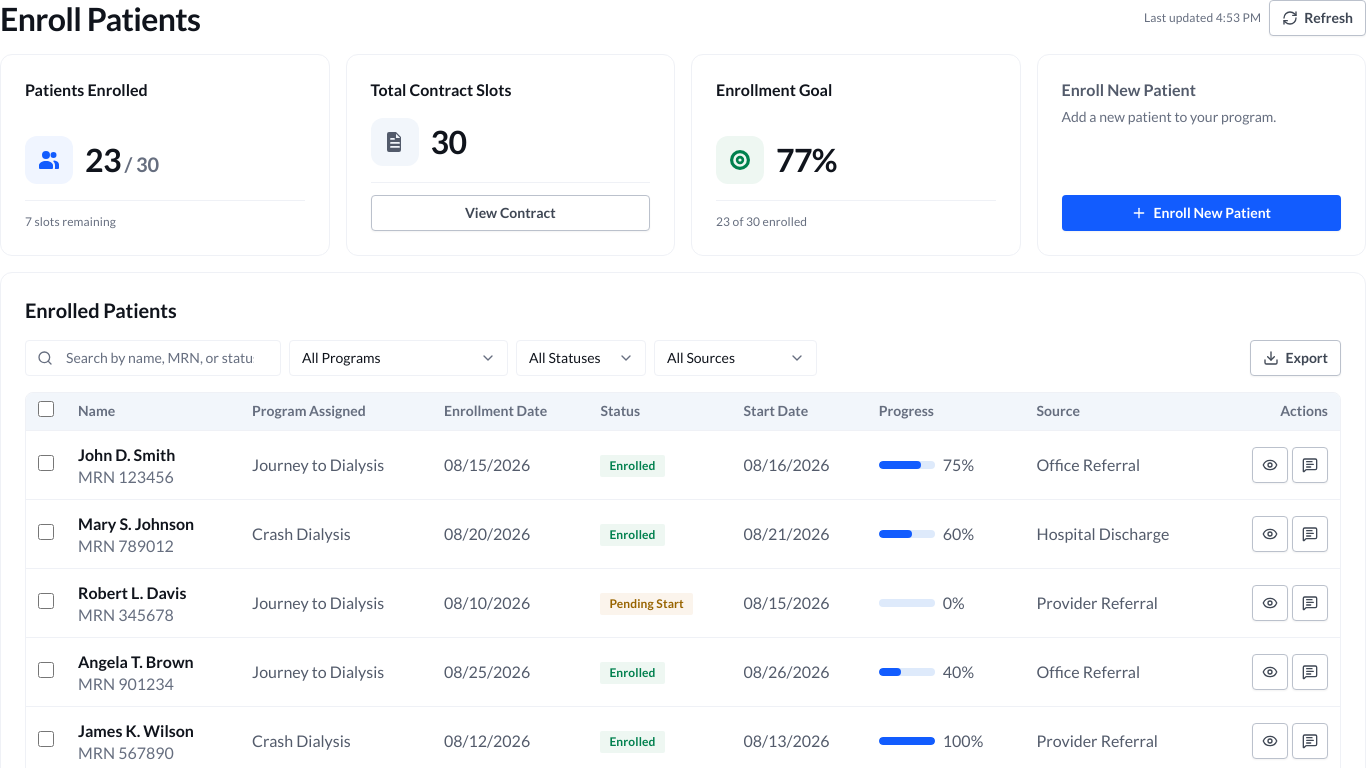
Scenario: enrolling a patient › explains what is missing before saving anything
Click the button "Enroll New Patient" at (1201, 213), box [1062, 195, 1341, 231]
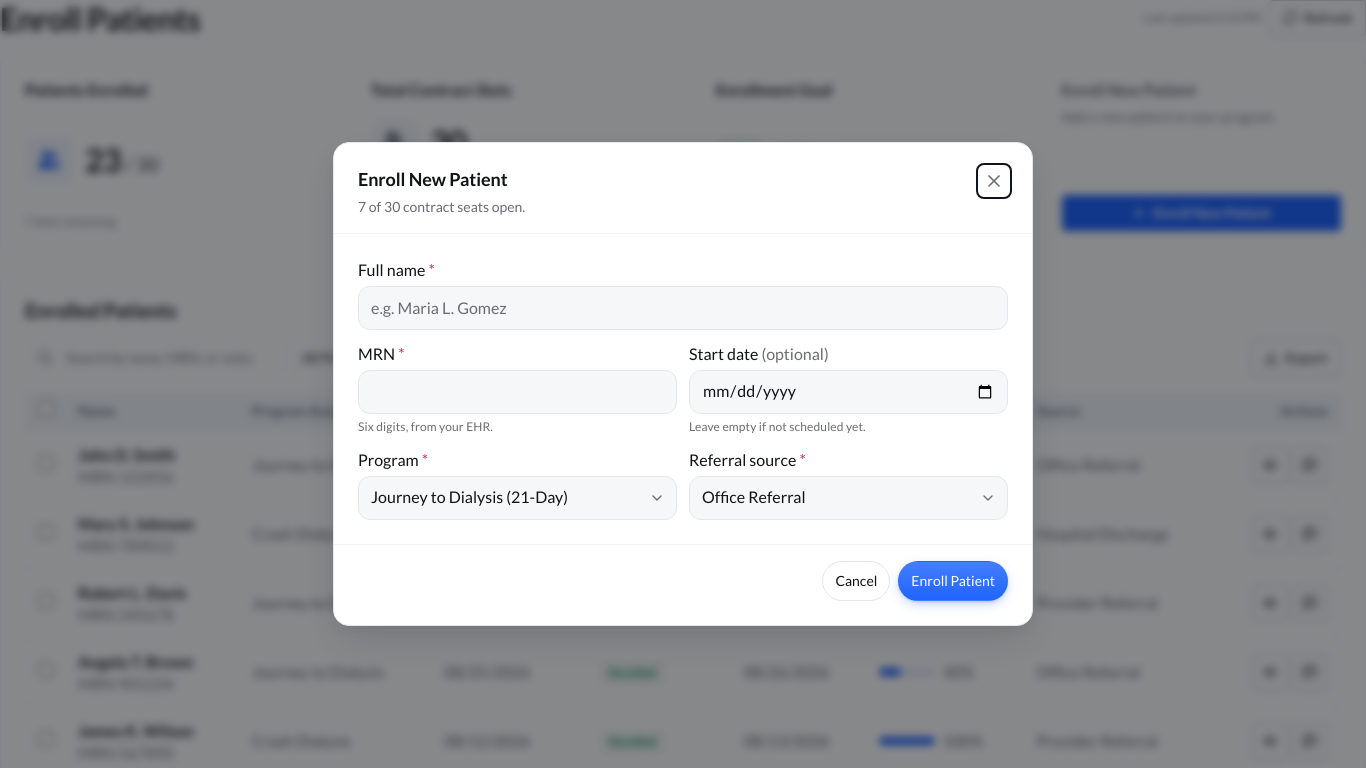
Click the button "Enroll Patient" at (953, 581), box [898, 561, 1008, 601]
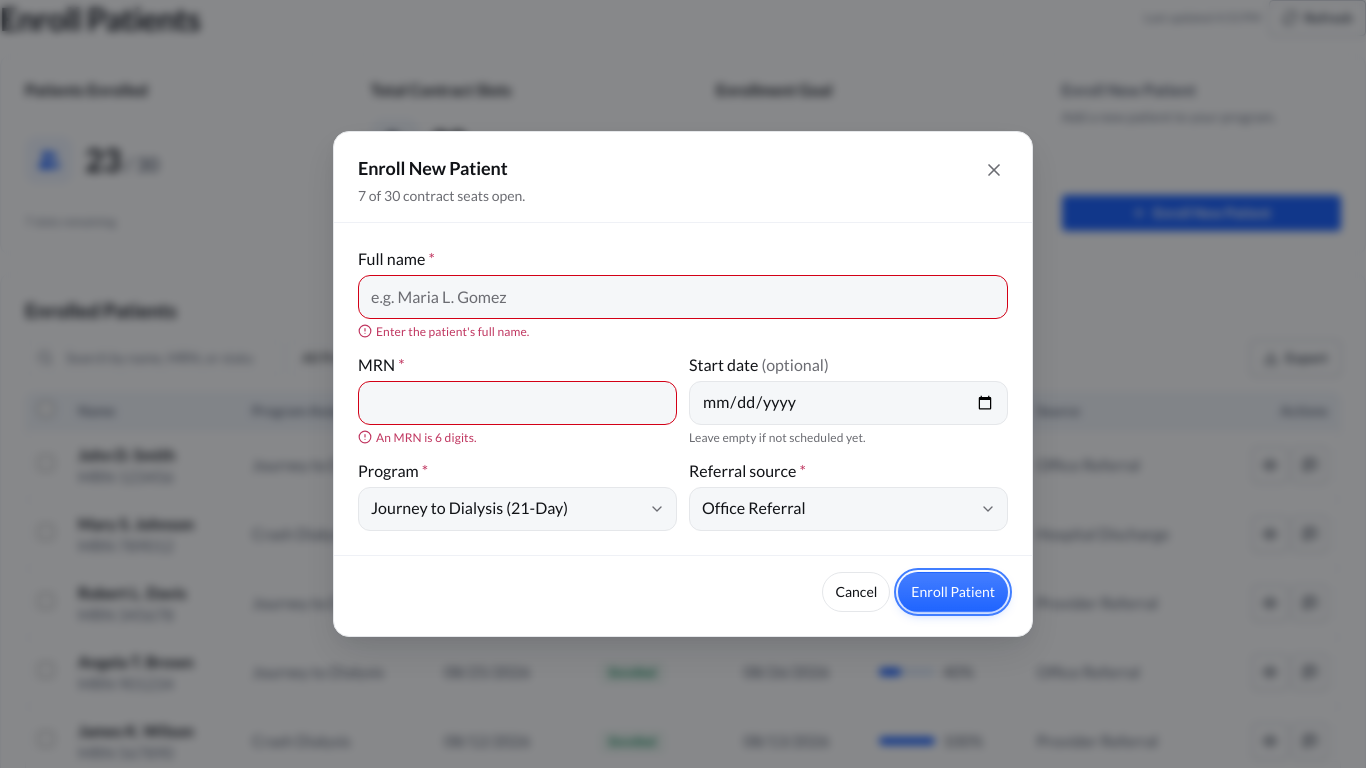
Result: the text "Enter the patient's full name." is shown at [358, 324, 530, 339]
Result: the text "An MRN is 6 digits." is shown at [358, 430, 477, 445]
